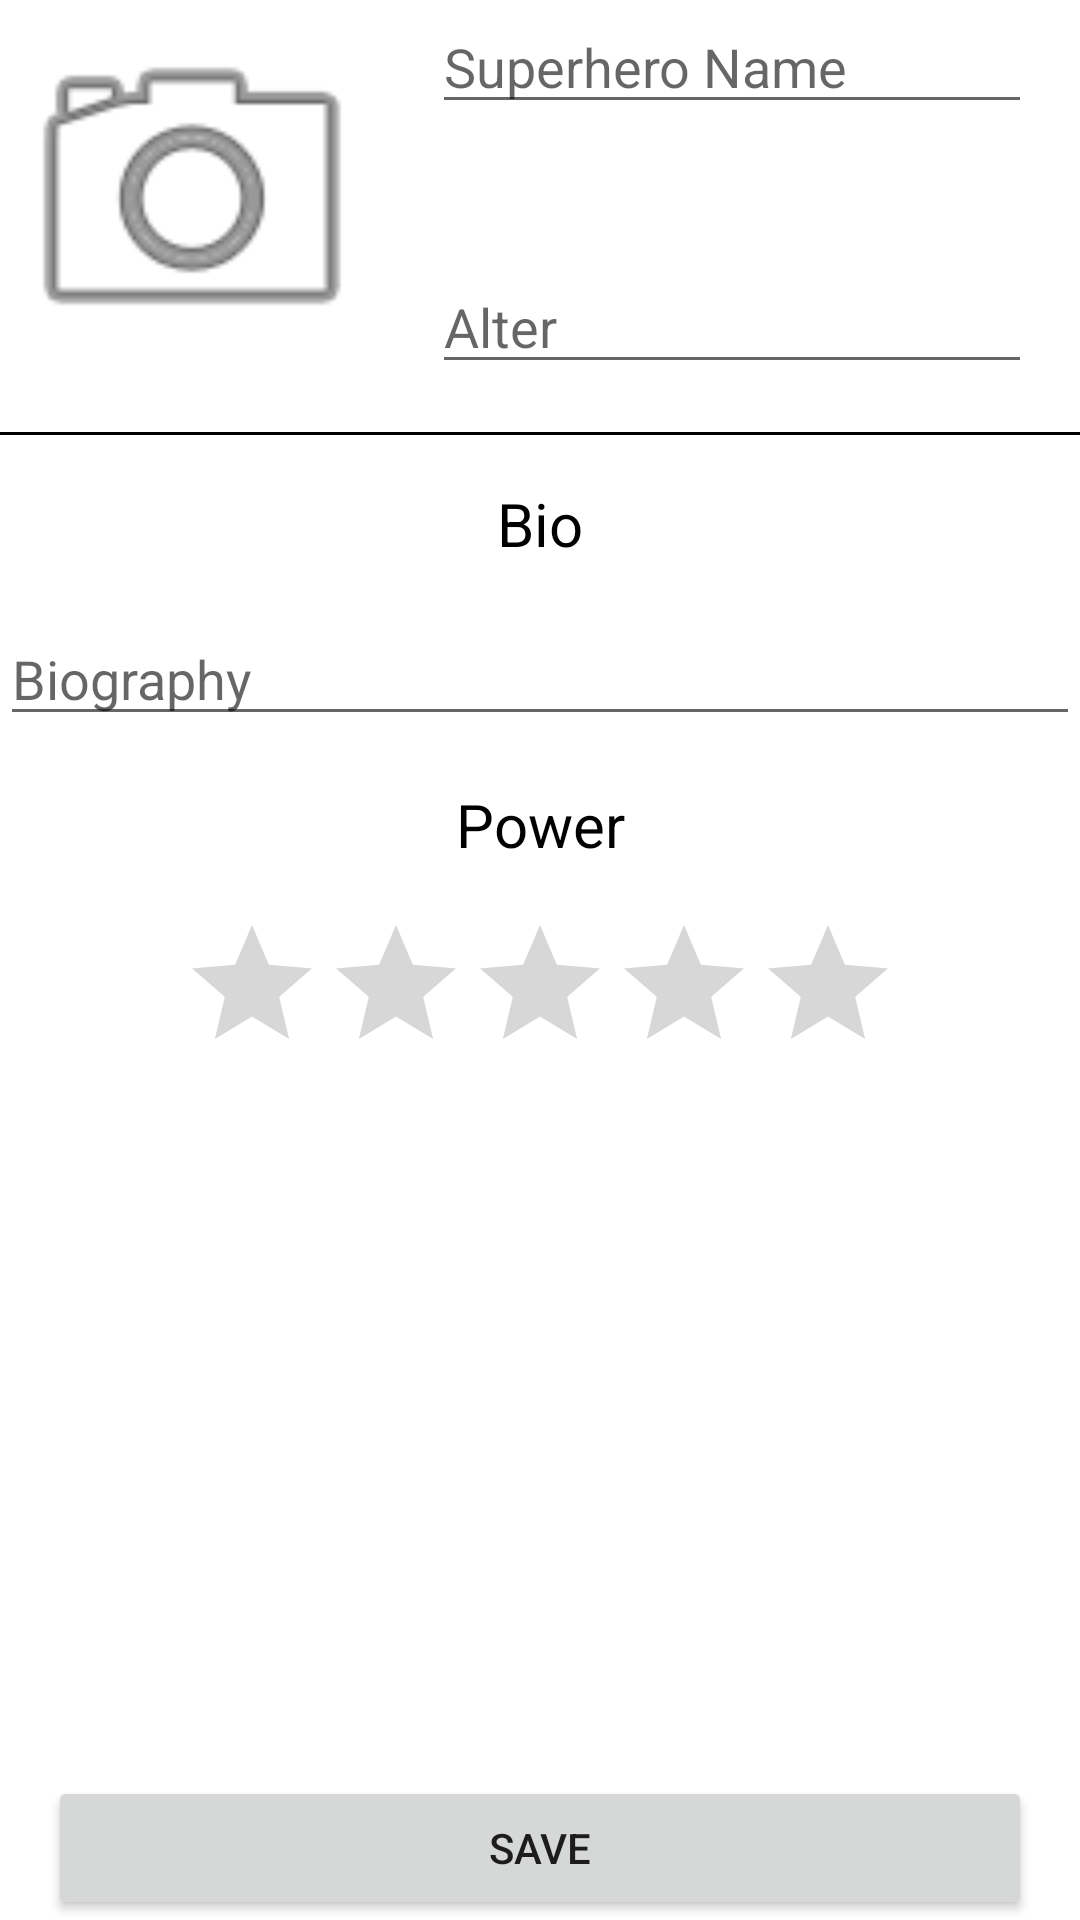

Named icons in this screenshot (1080px×1920px) and their bounding boxes, (x1, y1, x2, y2):
camera: (43, 67, 341, 305)
